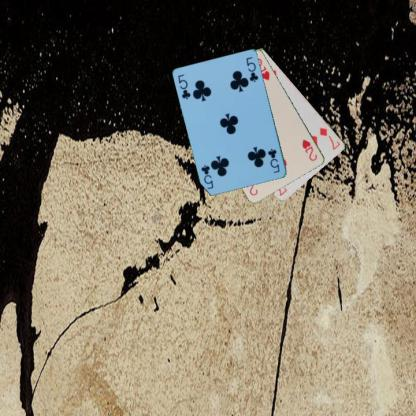2h: (300, 137, 318, 162)
5c: (265, 146, 281, 175), (176, 72, 192, 100)
7d: (317, 125, 342, 151)
